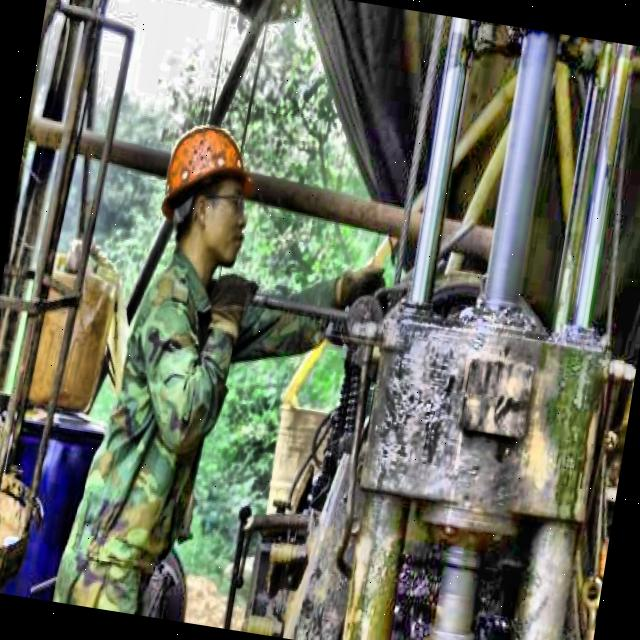helmet: (142, 102, 270, 280)
